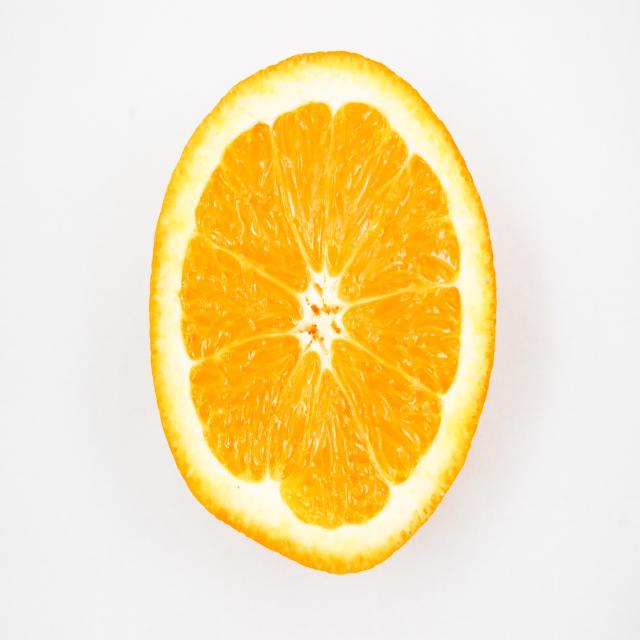orange: (151, 53, 495, 572)
